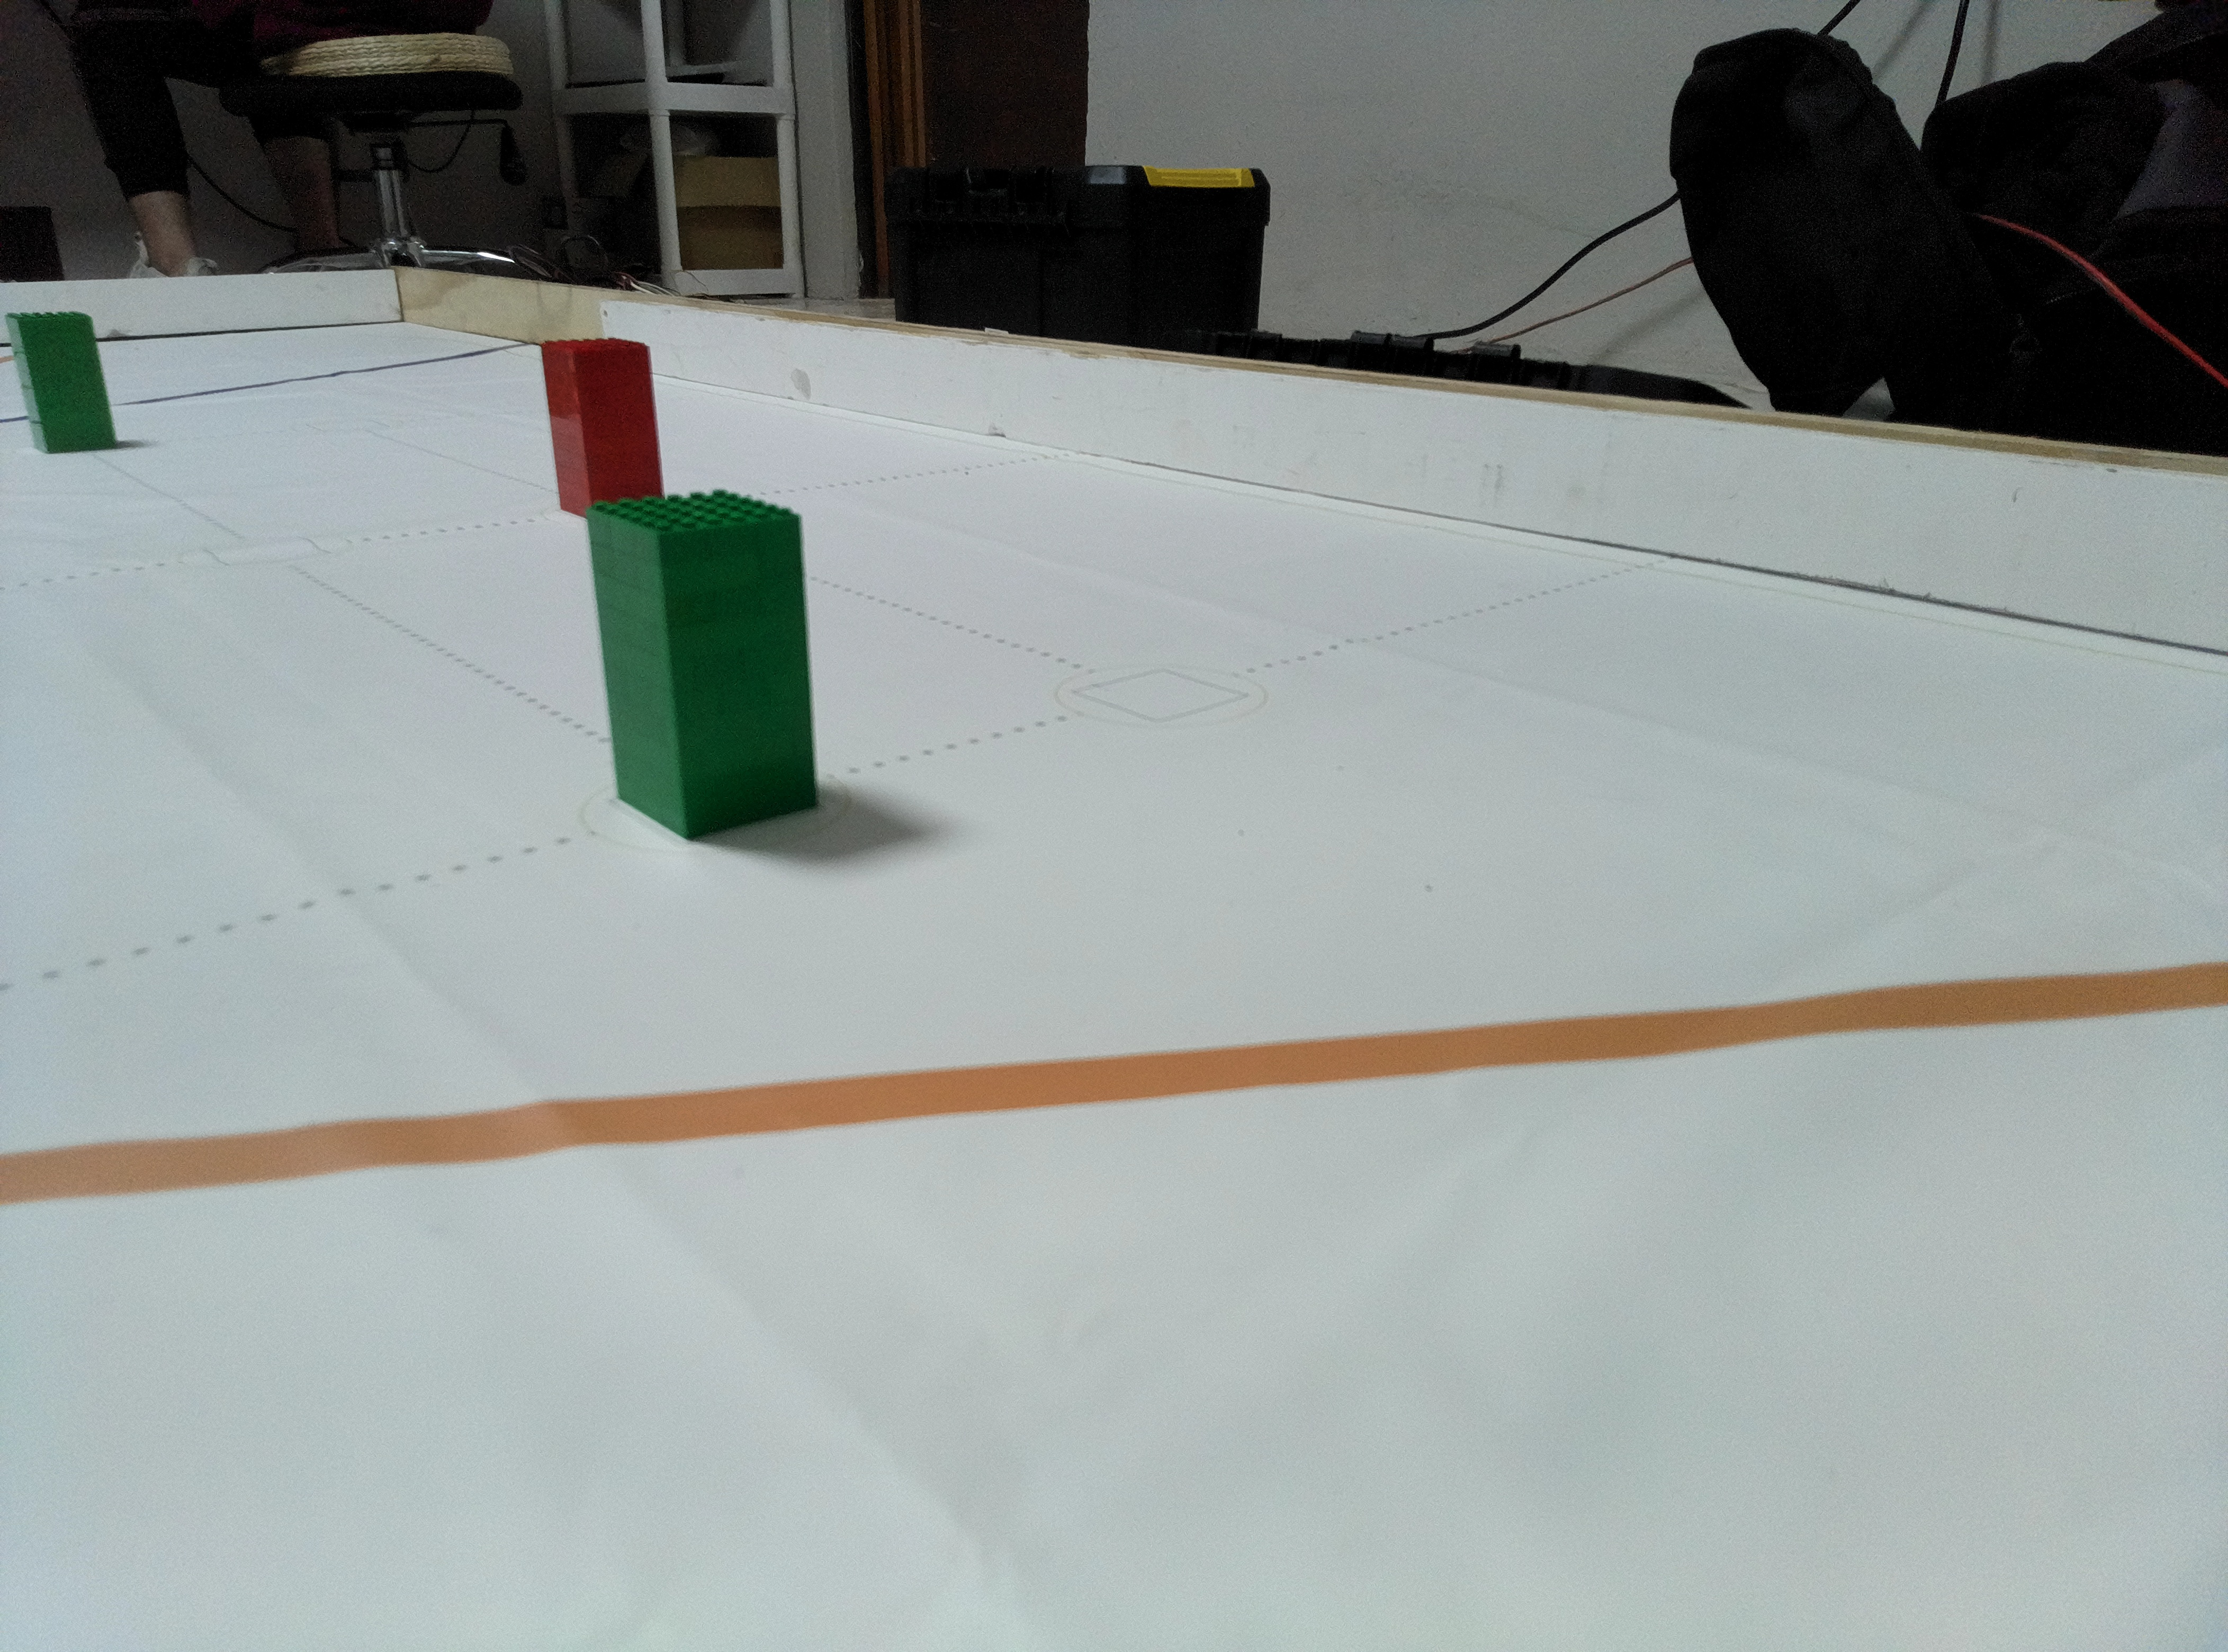greenbox: (571, 472, 835, 838), (9, 309, 127, 456)
redbox: (528, 330, 668, 521)
